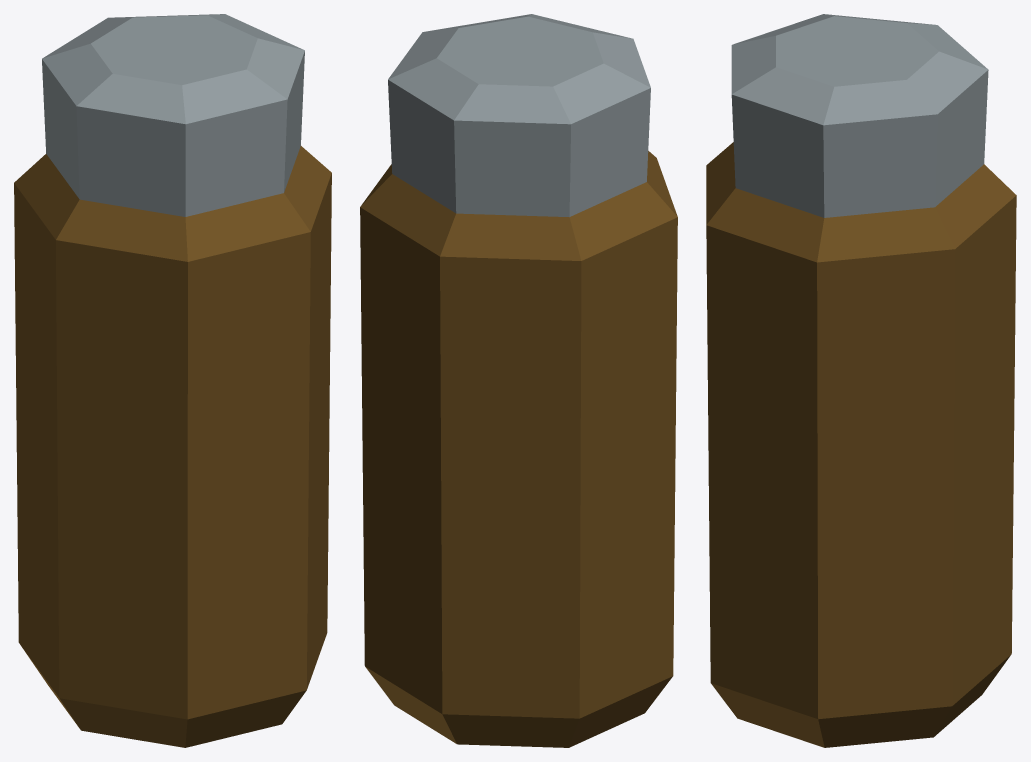
The model's file is PepperShaker.glb.
The picture shows the model from 3 angles, left to right: view 1: azimuth 30°, elevation 25°; view 2: azimuth 150°, elevation 25°; view 3: azimuth 270°, elevation 25°; orthographic projection.
Parts seen in each view (by area): view 1: PepperShaker; view 2: PepperShaker; view 3: PepperShaker.
Boxes of the visible parts, x1=… form: PepperShaker: x1=14, y1=14, x2=331, y2=747; PepperShaker: x1=360, y1=14, x2=677, y2=747; PepperShaker: x1=706, y1=14, x2=1016, y2=747.
Size of the model in its own units: 0.0684 by 0.1525 by 0.0666.
